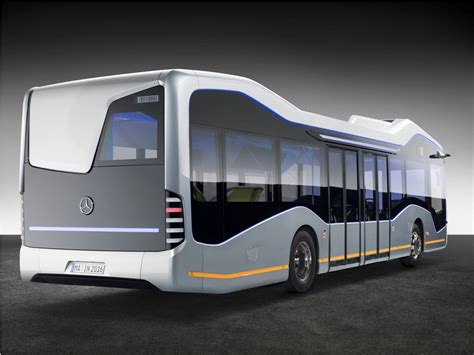bus: (19, 74, 448, 288)
